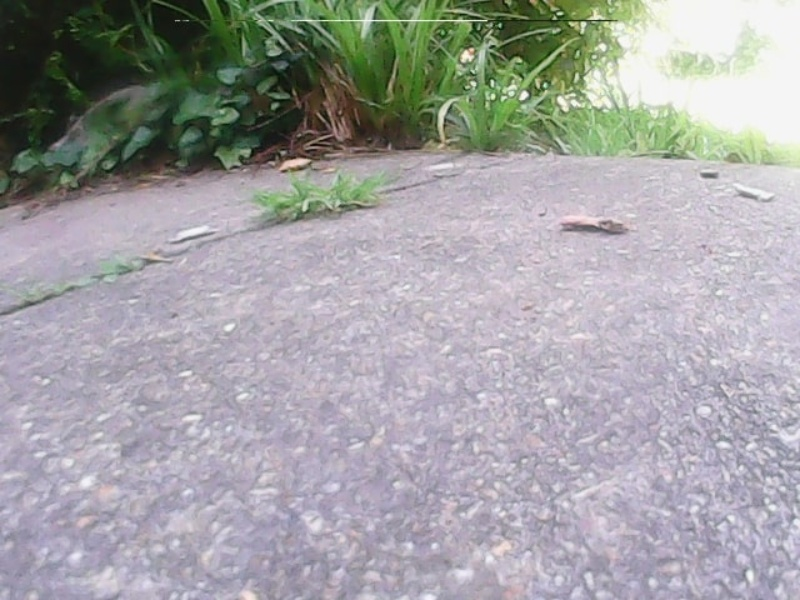cig: (550, 205, 629, 240), (171, 216, 219, 247), (732, 182, 781, 204)
